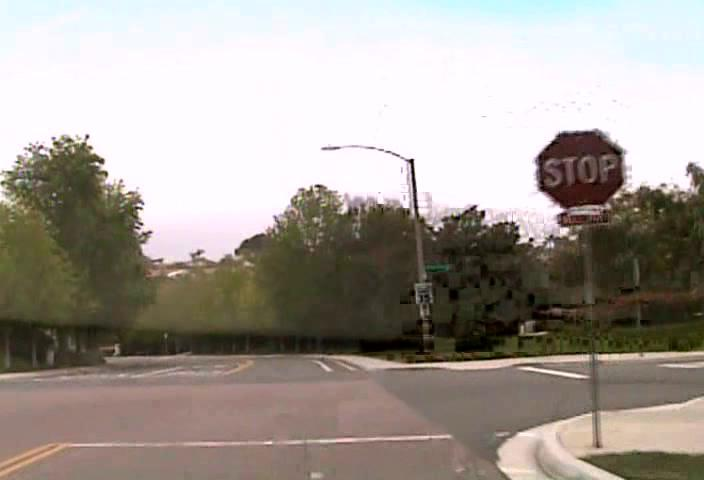stop: (535, 128, 625, 210)
